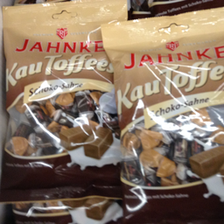candy: (3, 6, 120, 190), (107, 30, 224, 196)
